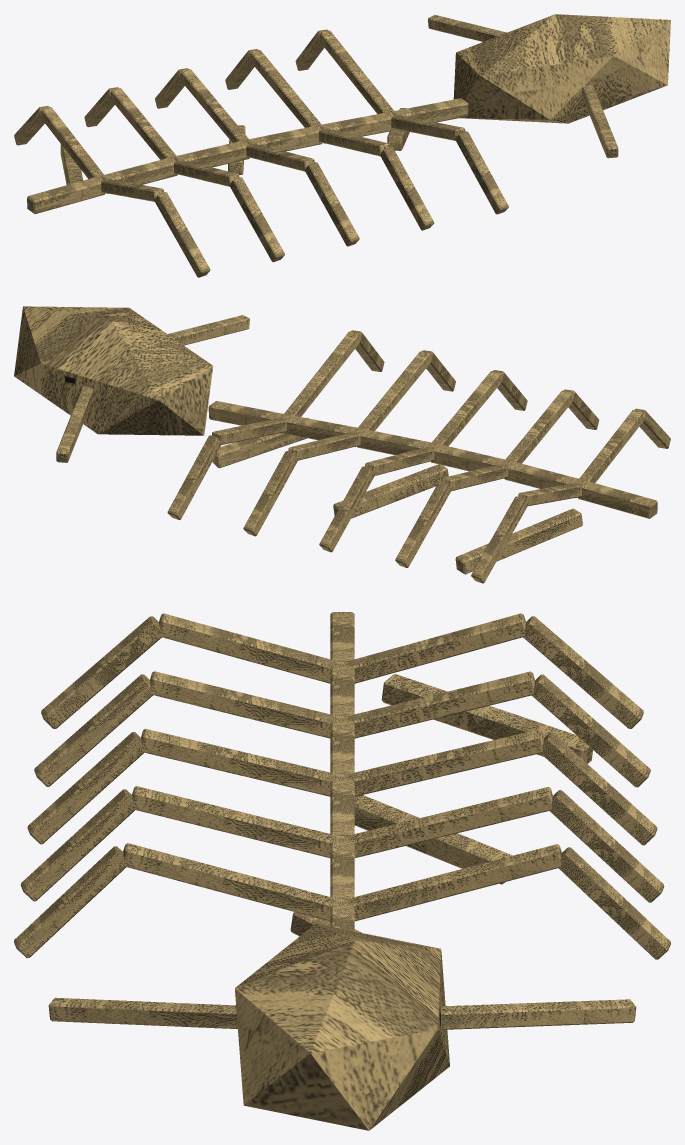
The model's file is bison_skeleton.glb.
3 renders of one model, top to bottom at view 1: azimuth 30°, elevation 25°; view 2: azimuth 150°, elevation 25°; view 3: azimuth 270°, elevation 25°, orthographic. The views are drawn at different scales.
Parts seen in each view (by area): view 1: bison_skeleton; view 2: bison_skeleton; view 3: bison_skeleton.
Part boxes in pixels (x1,y1,x2,y2): bison_skeleton: (14, 14, 670, 277); bison_skeleton: (14, 306, 670, 583); bison_skeleton: (14, 612, 670, 1130).
Size of the model in its own units: 5.22 by 0.8313 by 2.94.
Materials: 1 (1 with a texture image).
